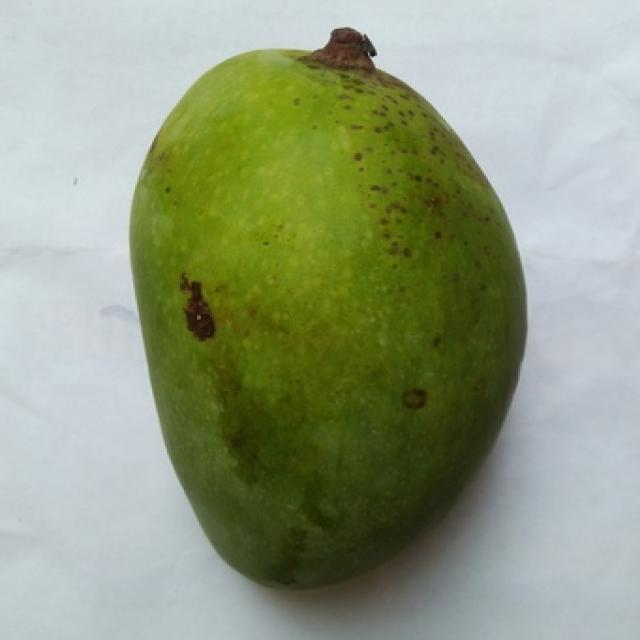Mango: (131, 29, 526, 588)
